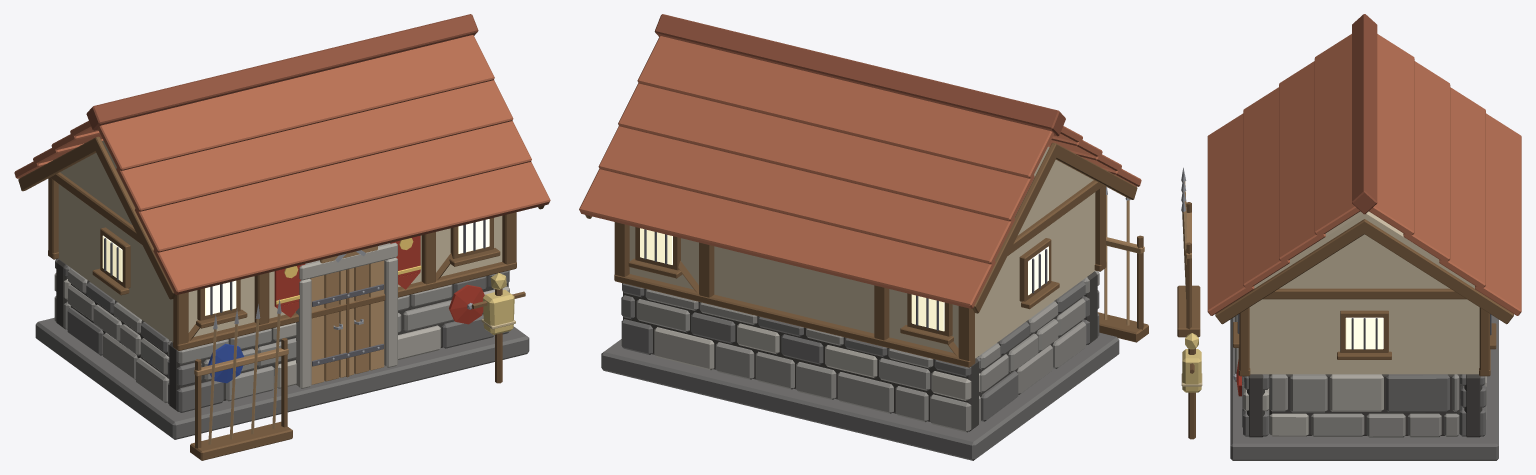
The model's file is barracks_2.glb.
3 views of the same model, side by side, from view 1: azimuth 30°, elevation 25°; view 2: azimuth 150°, elevation 25°; view 3: azimuth 270°, elevation 25° (orthographic). The views are drawn at different scales.
Visible parts, largest first — view 1: Barracks; view 2: Barracks; view 3: Barracks.
Part boxes in pixels (x1=…): Barracks: x1=14, y1=14, x2=550, y2=460; Barracks: x1=579, y1=14, x2=1148, y2=460; Barracks: x1=1177, y1=14, x2=1521, y2=460.
Bounding box in the file's own units: 6.6 × 4.76 × 5.39.
